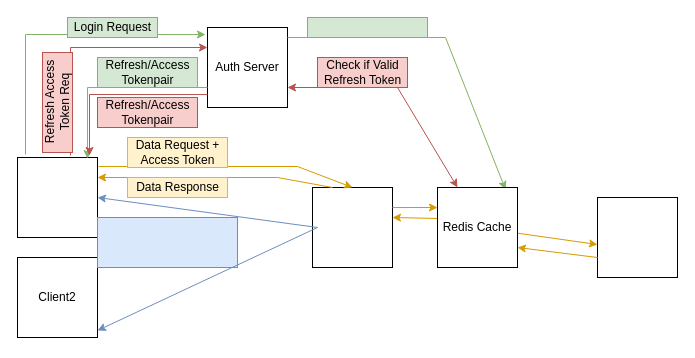
This 695x358 diagram has some shape labels left out. The shapes that lost their labels are listed below. From the top down, each one's centre as x and y in pixels, then its label:
At point 367,27: "Store Refresh Token".
At point 57,197: "Client1".
At point 167,242: "Open Websocket/HTTP Long-Polling Connection (socket-io)".
At point 352,227: "Data Server".
At point 637,237: "Mongo DB".
